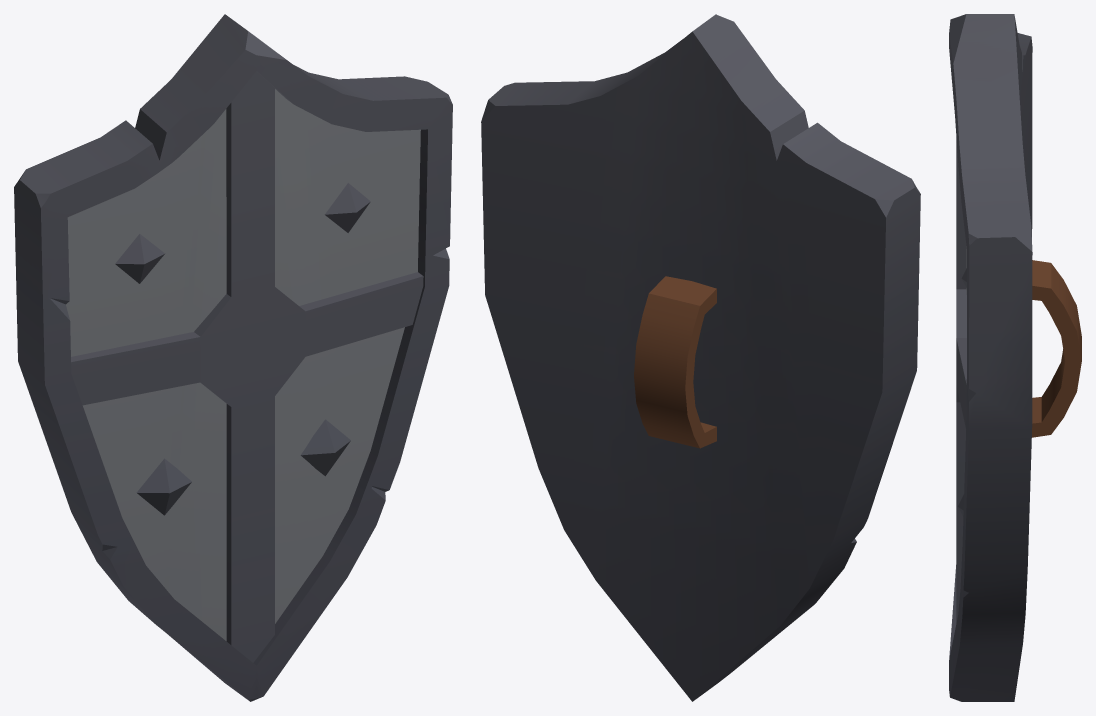
Rendered from Shield_03.glb.
3 views of the same model, side by side, from view 1: azimuth 30°, elevation 25°; view 2: azimuth 150°, elevation 25°; view 3: azimuth 270°, elevation 25° (orthographic). The views are drawn at different scales.
Parts seen in each view (by area): view 1: Shield_03_LOD0; view 2: Shield_03_LOD0; view 3: Shield_03_LOD0.
Boxes of the visible parts, x1=… form: Shield_03_LOD0: x1=14, y1=14, x2=452, y2=701; Shield_03_LOD0: x1=481, y1=14, x2=920, y2=701; Shield_03_LOD0: x1=949, y1=14, x2=1081, y2=701.
Size of what is drawn, in the model's own units: 0.551 by 0.8549 by 0.1495.
1 material, 1 textured.
